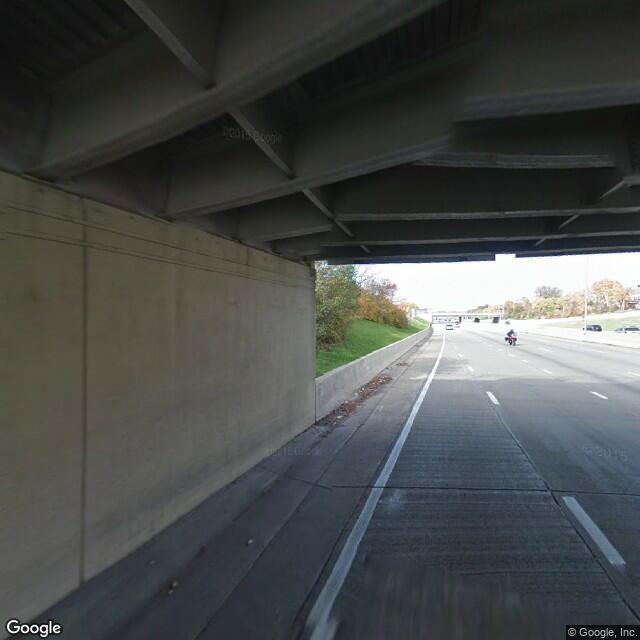litter: (244, 536, 257, 547), (336, 413, 345, 421), (361, 386, 366, 393), (353, 391, 356, 396), (345, 399, 346, 406)
